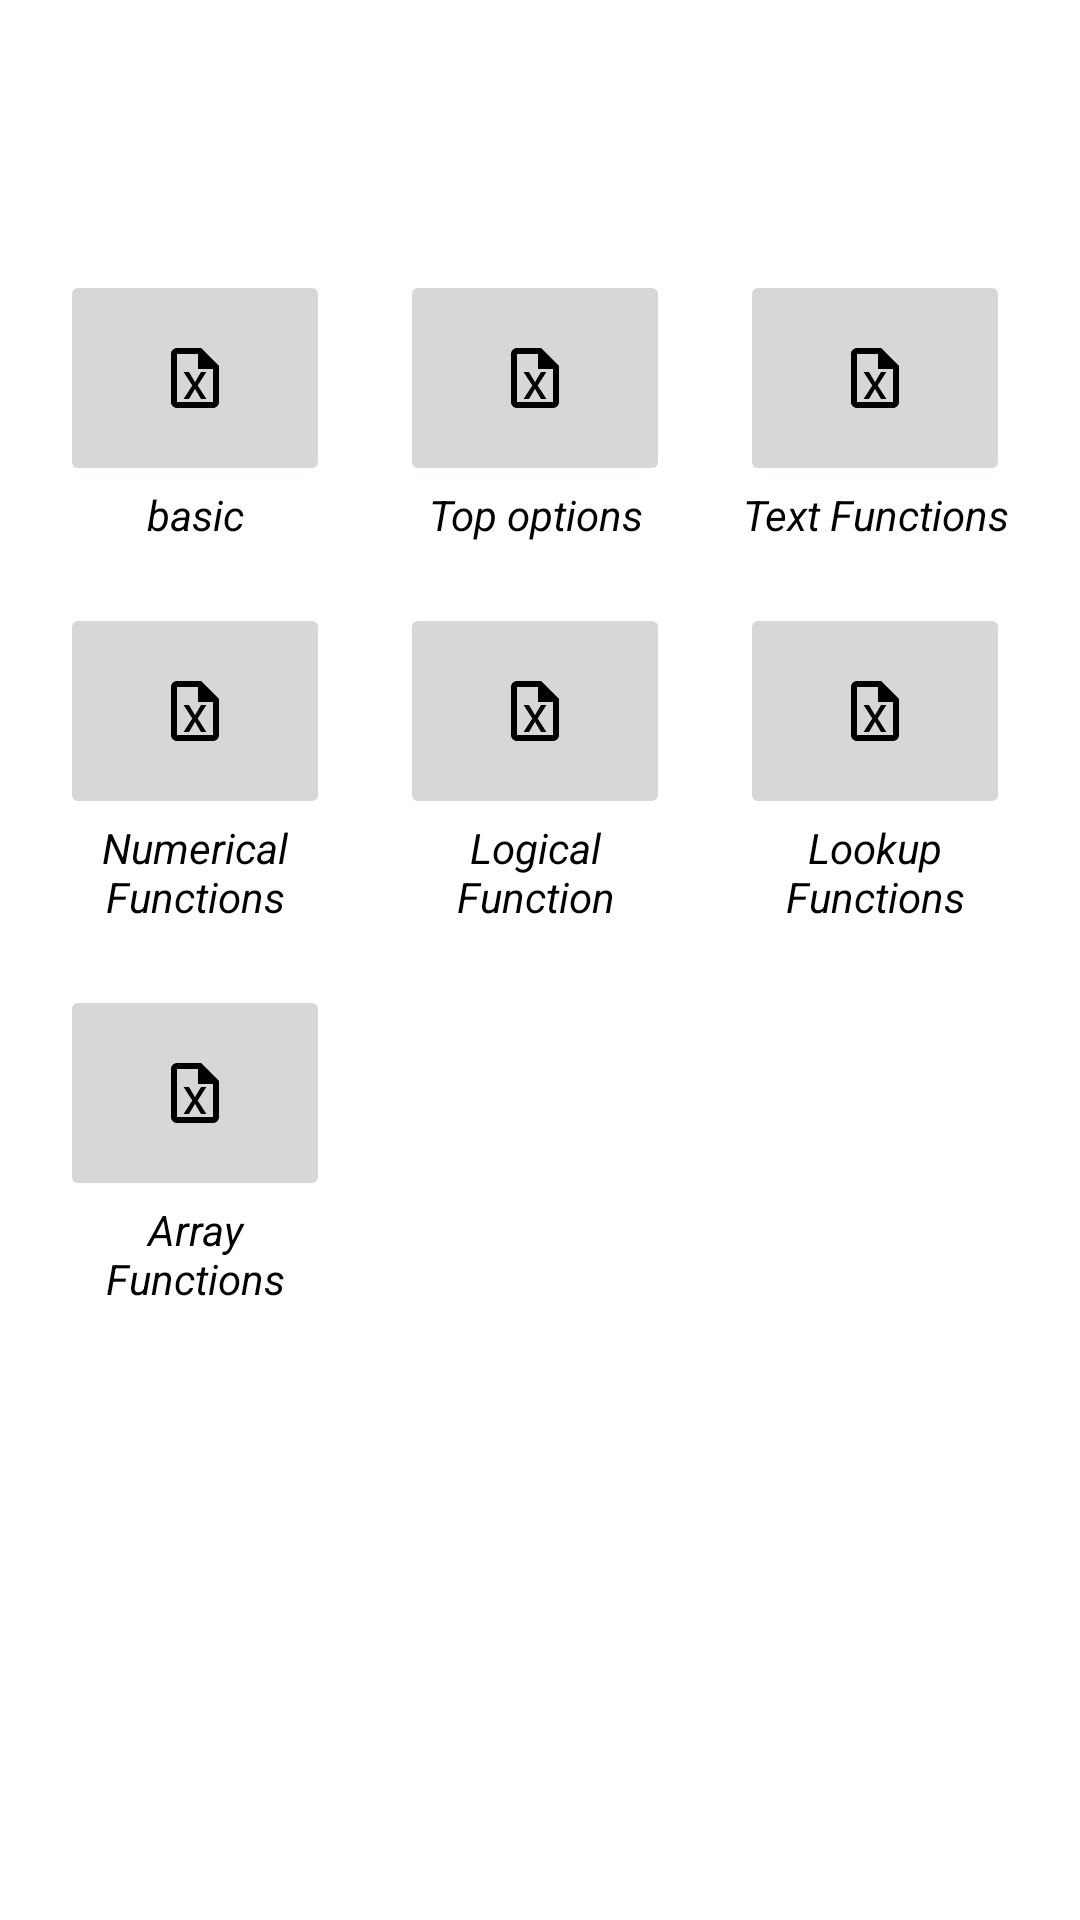

Point at icon controls on the screen. Image size 1080 x 1920, points as (x,y).
file excel: (195,378), (535,378), (875,378), (195,711), (535,711), (875,711), (195,1093)
